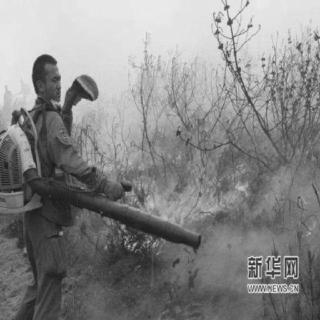Fire: (109, 115, 253, 253), (298, 204, 316, 238)
Smoke: (73, 4, 201, 48)
other: (0, 52, 99, 318)
